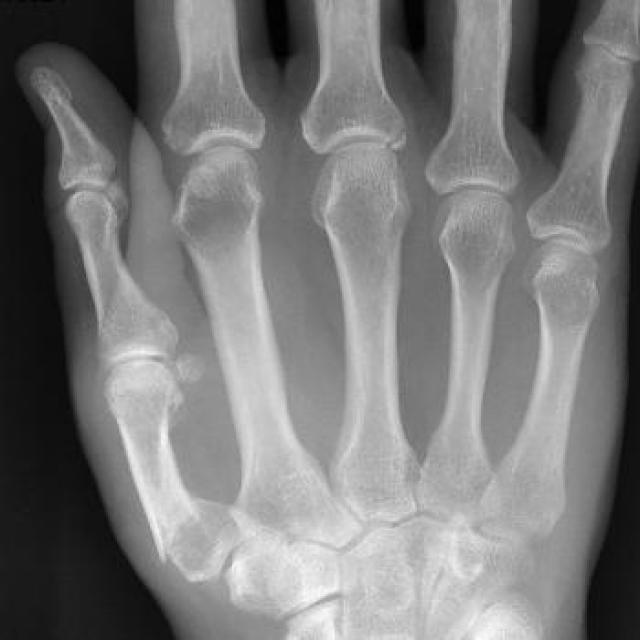fracture: (87, 240, 136, 336)
